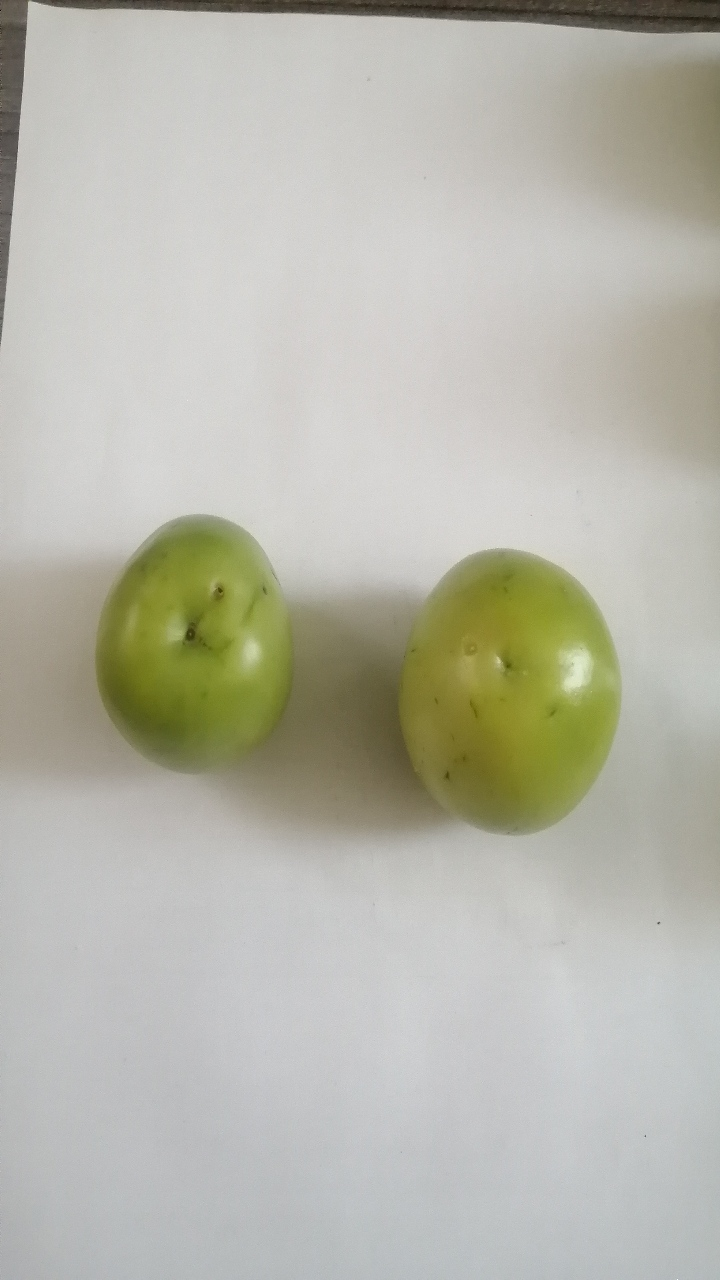tomateVerde: (386, 526, 634, 859), (72, 483, 315, 803)
